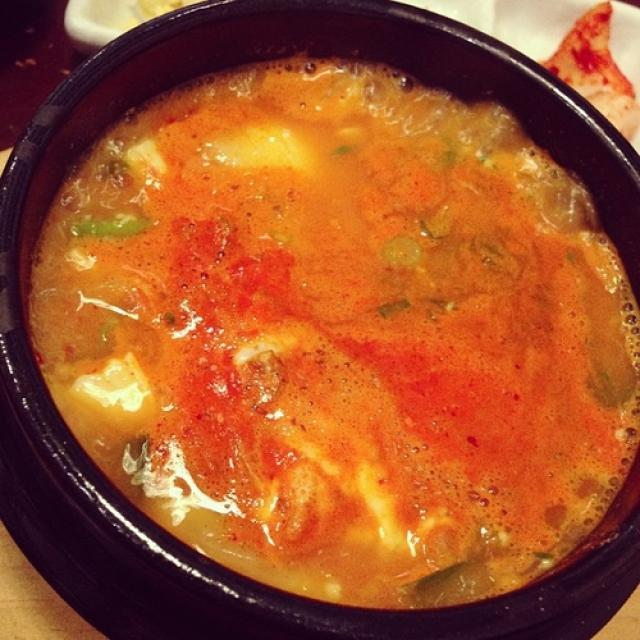汤锅炖物: (54, 72, 589, 540)
